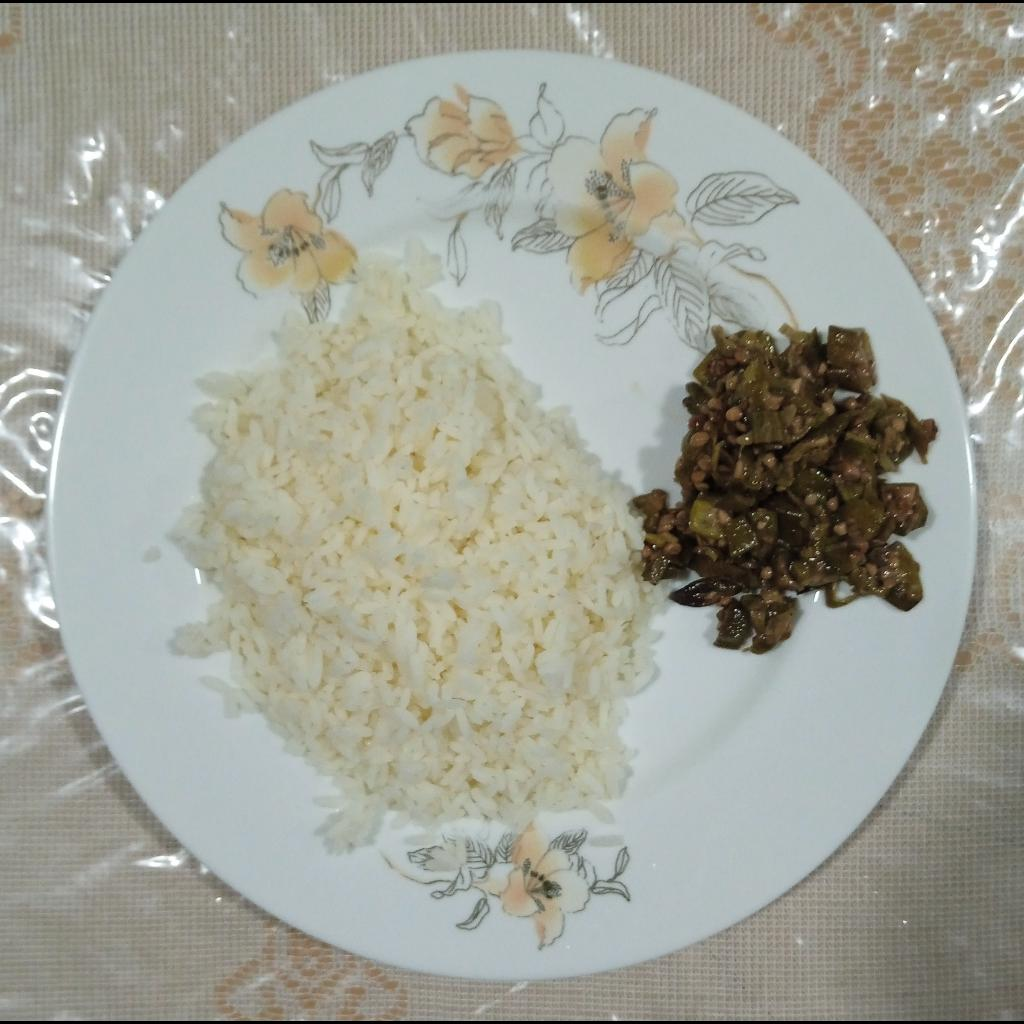okra: (636, 323, 936, 657)
rice: (159, 241, 659, 863)
